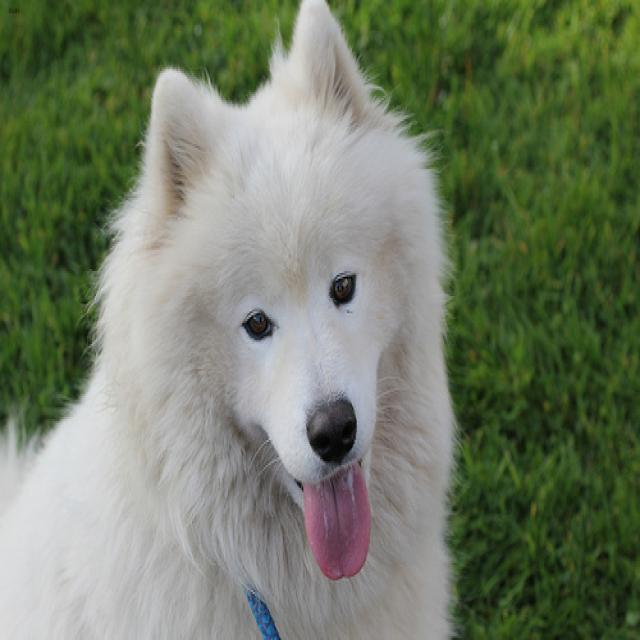dog-samoyed: (1, 2, 465, 636)
